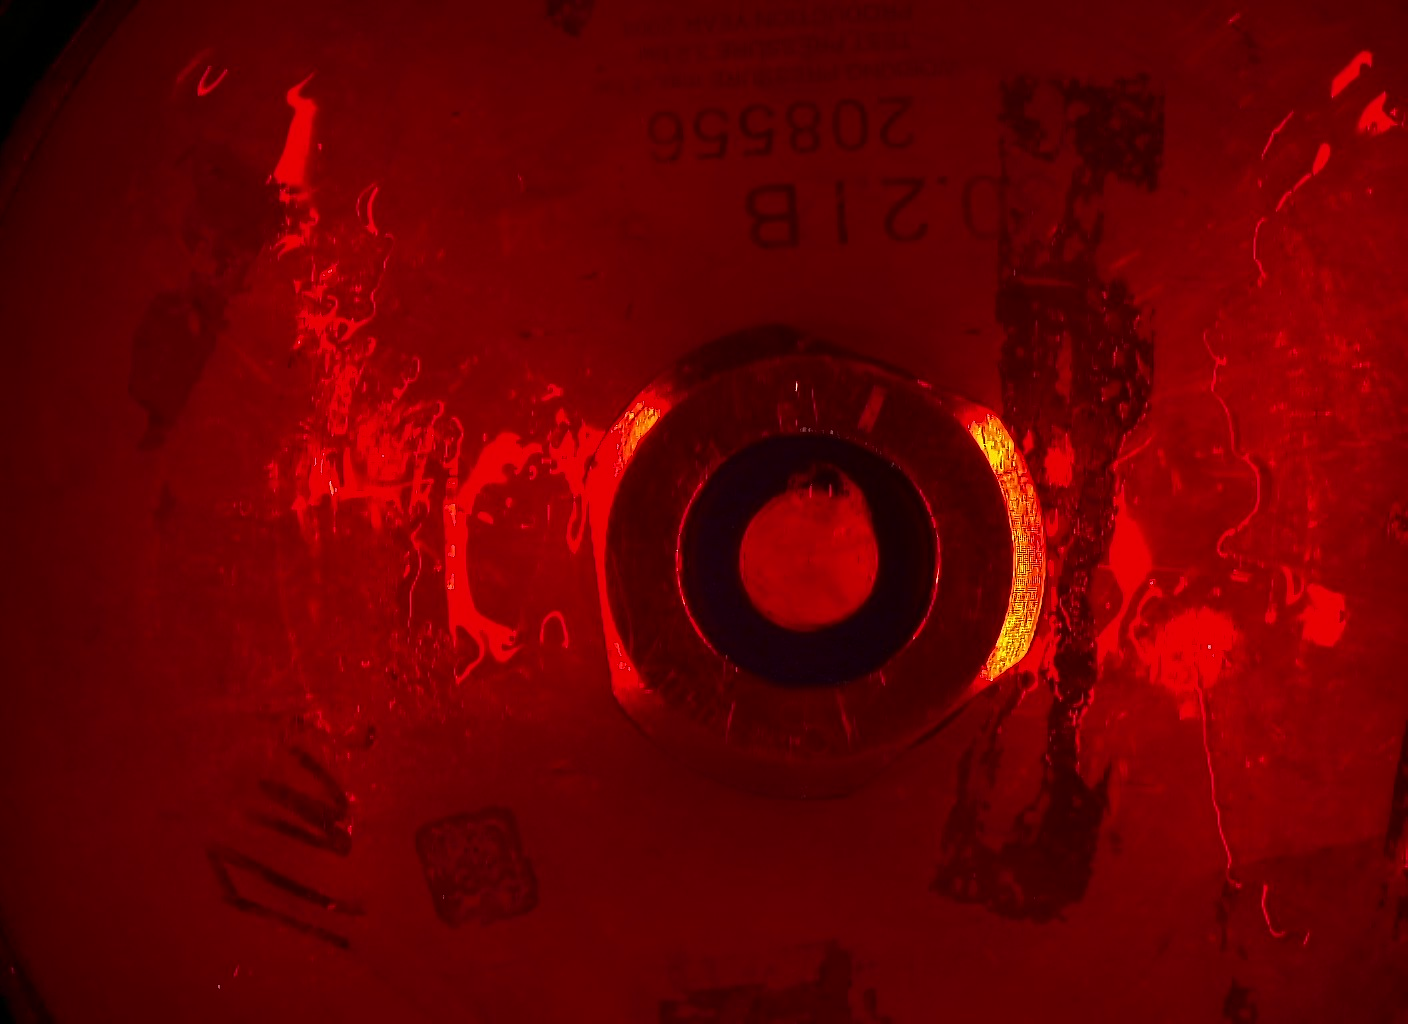pena: (778, 454, 871, 535)
